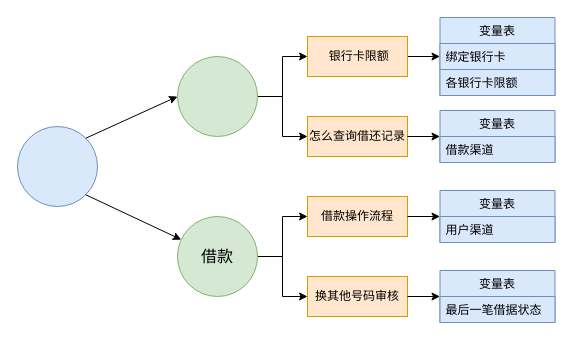
The diagram is 573 pixels wide and 343 high, and some of its shapes have lost their labels. Each missing label, with the centre of its shape:
"入口" belongs at (x=57, y=166).
"还款" belongs at (x=217, y=96).
